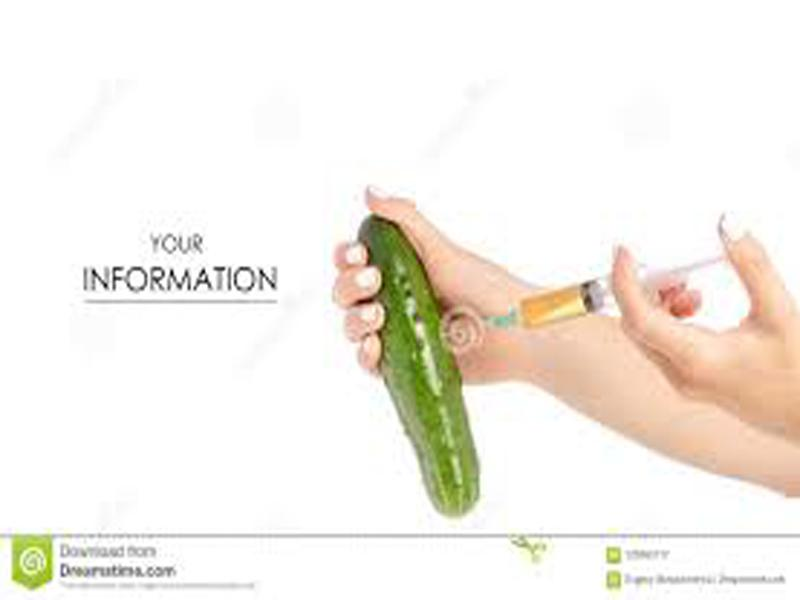Cucumber: (358, 214, 479, 518)
